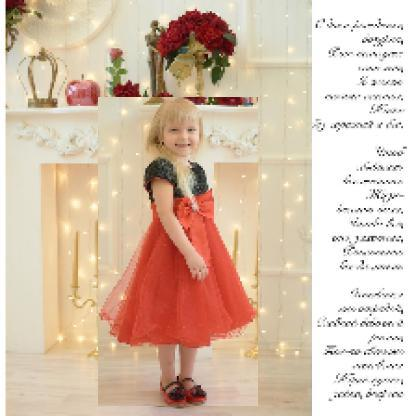child: (99, 99, 260, 409)
